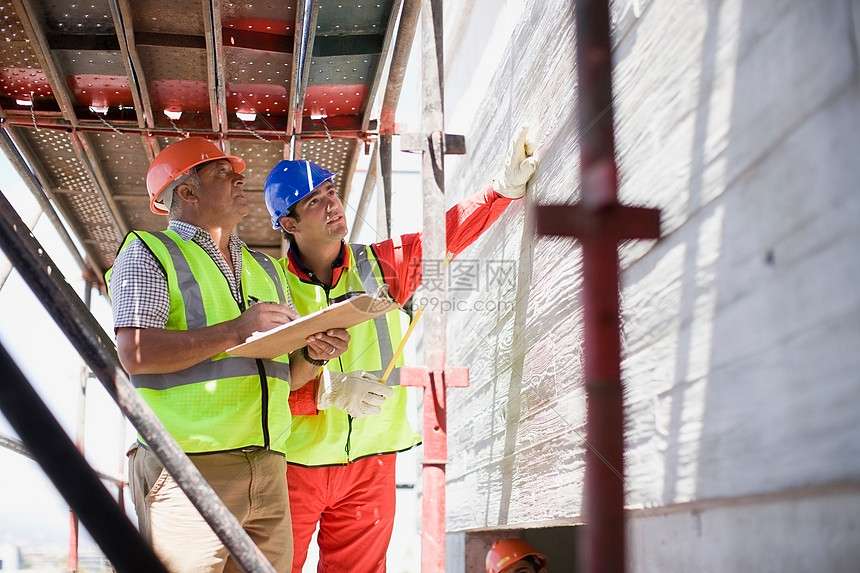safetyhat: (114, 130, 277, 573), (260, 146, 447, 462)
